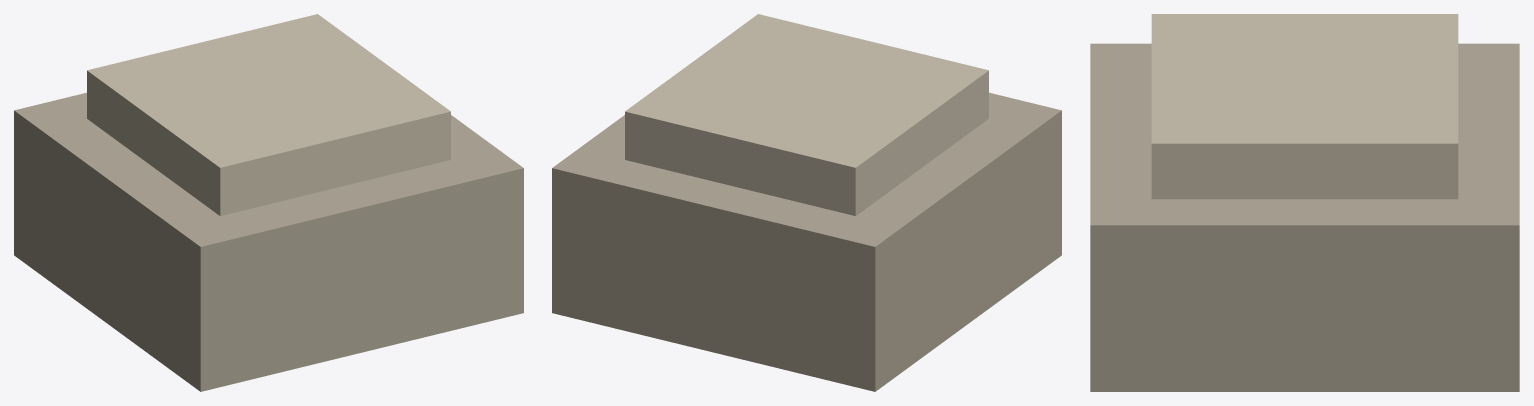
Rendered from cuenco_01.glb.
3 views of the same model, side by side, from view 1: azimuth 30°, elevation 25°; view 2: azimuth 150°, elevation 25°; view 3: azimuth 270°, elevation 25° (orthographic). The views are drawn at different scales.
Visible parts, largest first — view 1: cuenco; view 2: cuenco; view 3: cuenco.
Part boxes in pixels (box(x1,y1,x2,y2)): cuenco: box(14, 14, 523, 391); cuenco: box(552, 14, 1061, 391); cuenco: box(1090, 14, 1519, 391).
Bounding box in the file's own units: 0.7 × 0.4 × 0.7.
